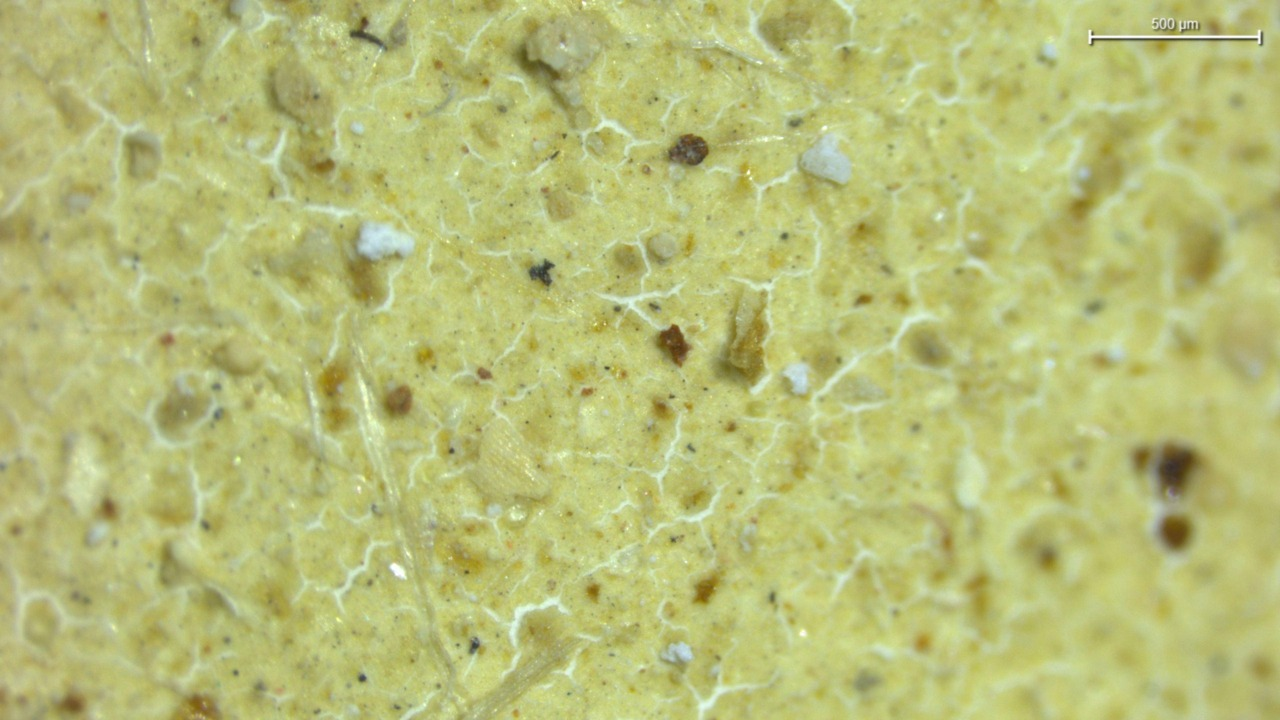microplastic_fragment: (271, 52, 333, 128), (525, 17, 601, 73), (799, 134, 851, 184), (356, 222, 414, 261), (647, 233, 679, 263), (659, 641, 694, 665)
